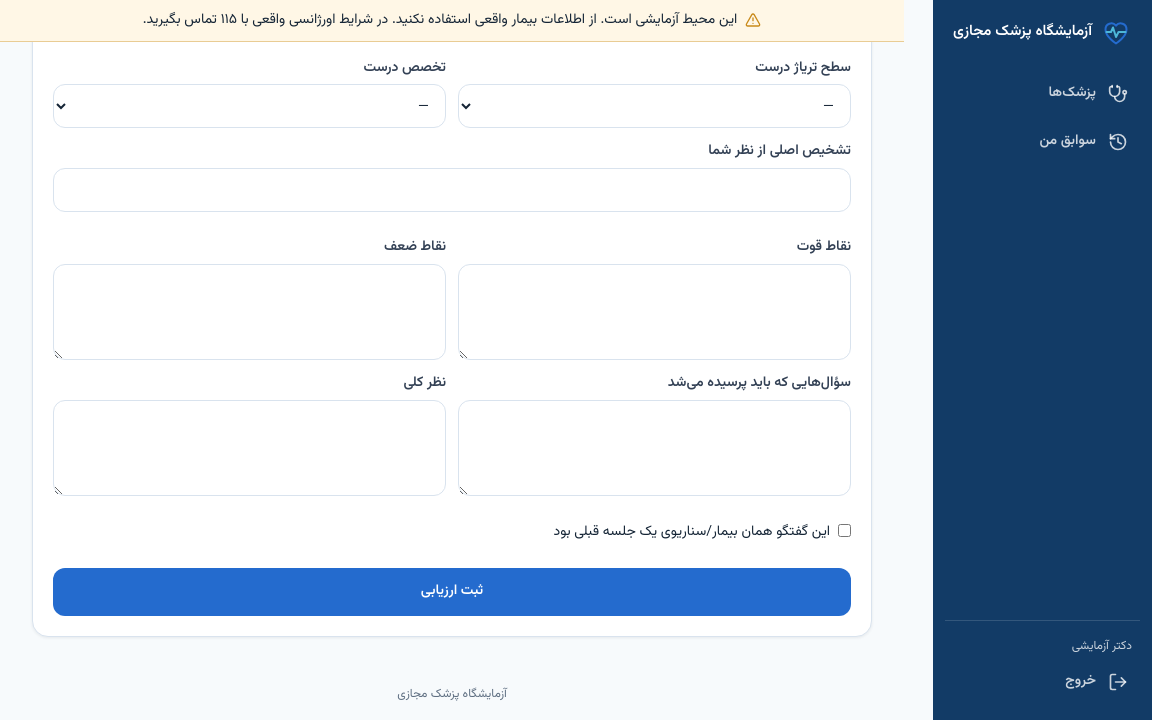
Test: evaluation form › clears the error of a field once it is filled in
(page scrolled)
Click the button "ثبت ارزیابی".
click(452, 592)  # box [53,568,851,616]
(page scrolled)
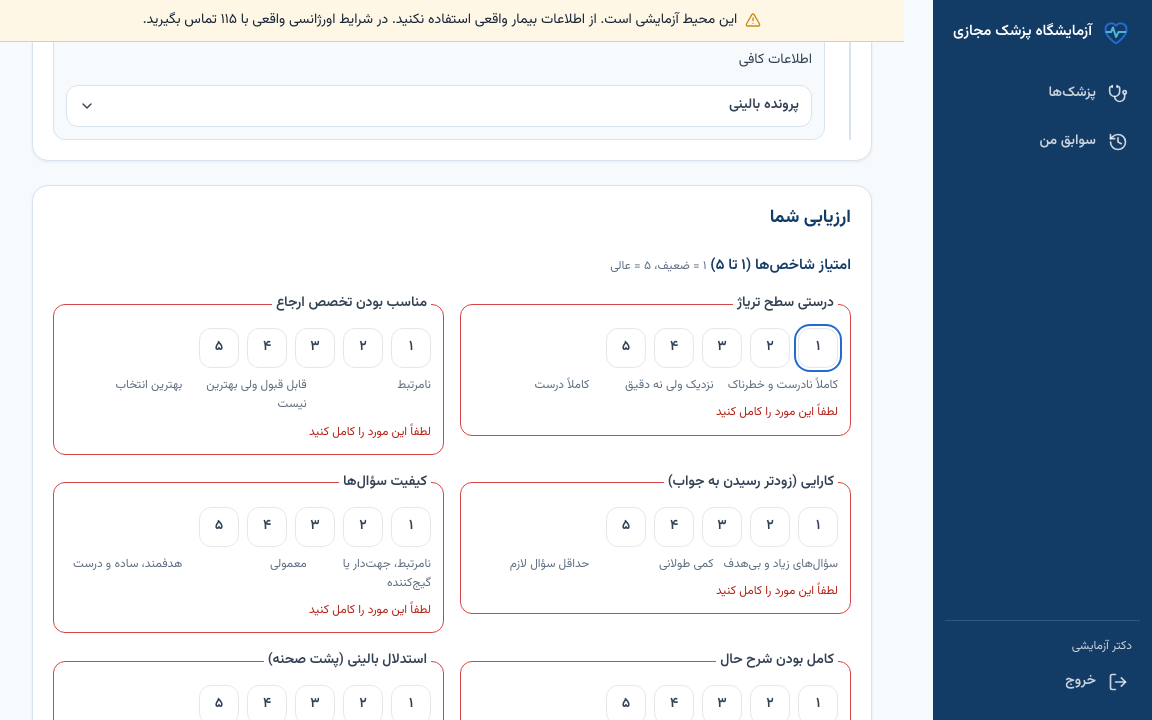
Expected: the text "لطفاً این مورد را کامل کنید" is shown 11 times
Click the radio button labelled "۵" below "درستی سطح تریاژ".
click(626, 348)  # box [606,328,646,368]
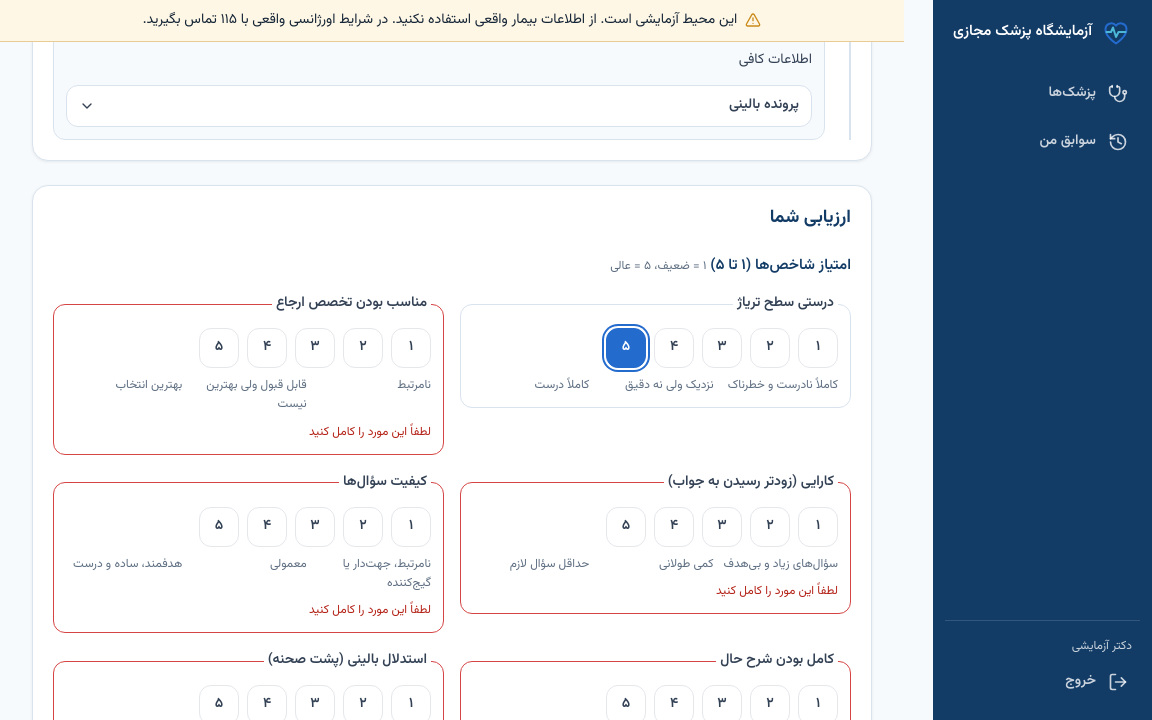
Expected: the text "لطفاً این مورد را کامل کنید" is shown 10 times
